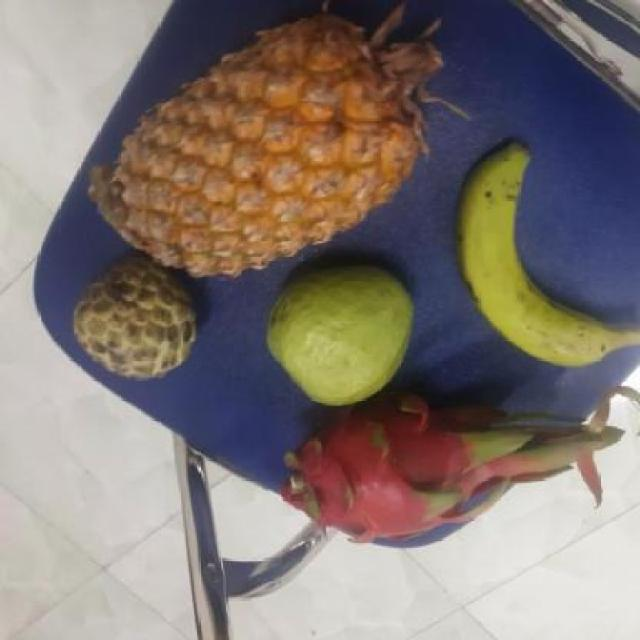banana: (457, 144, 632, 367)
dragon fruit: (284, 393, 531, 552)
guava: (260, 262, 418, 407)
pineapple: (108, 24, 440, 268)
sugar apple: (73, 256, 205, 378)
